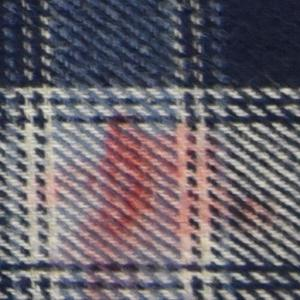Stain: (25, 109, 282, 300)
